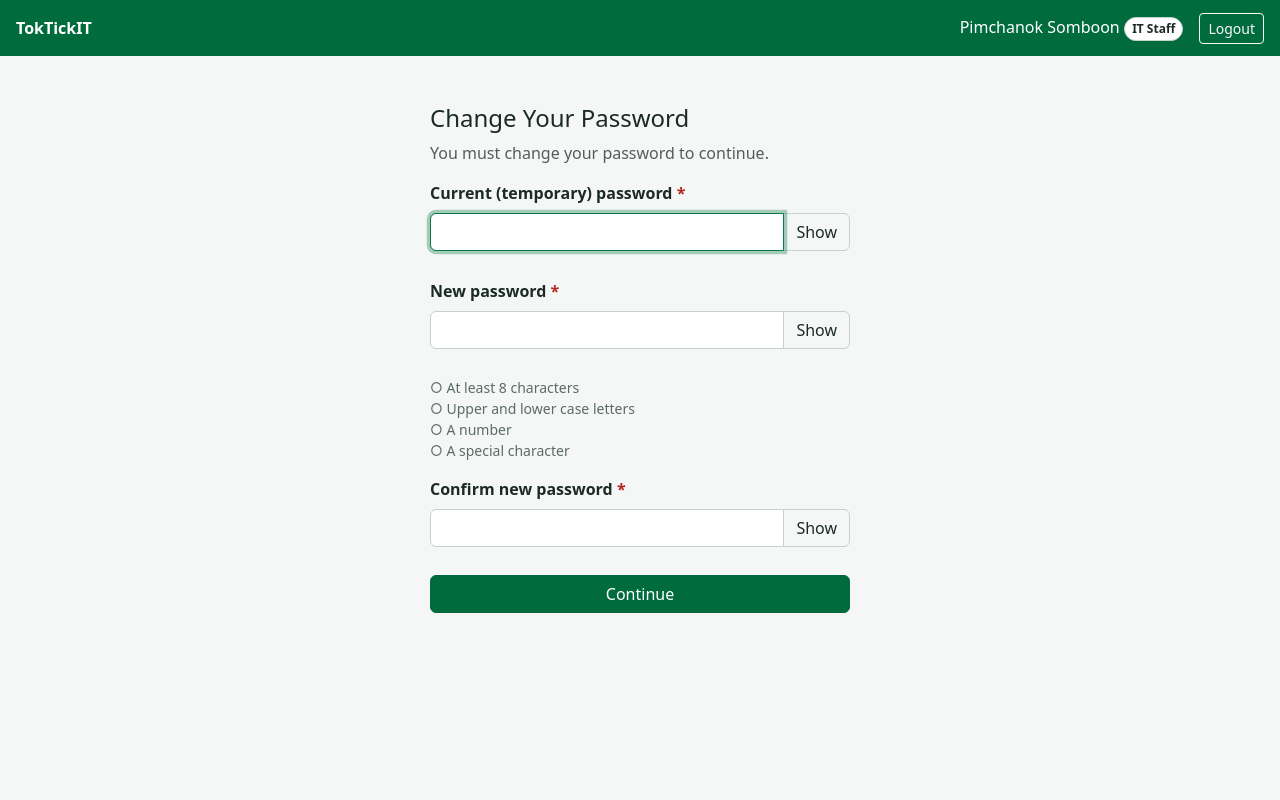
Test: Change Password screen › continues to a staff user's own landing route after the change
In the password field labelled "Current (temporary) password *": (607, 232) [430, 213, 784, 251], type "ChangeMe!23"
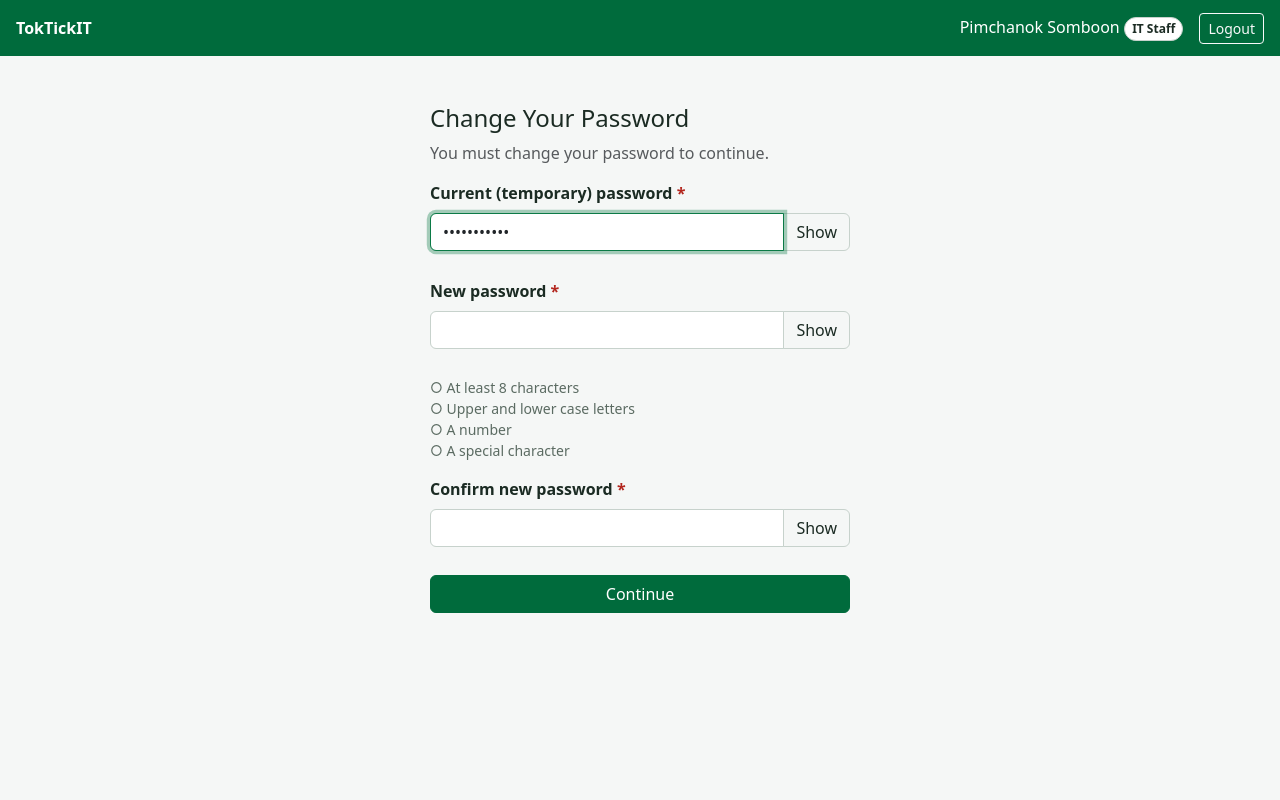
In the password field labelled "New password *": (607, 330) [430, 311, 784, 349], type "Fresh!Pass456"
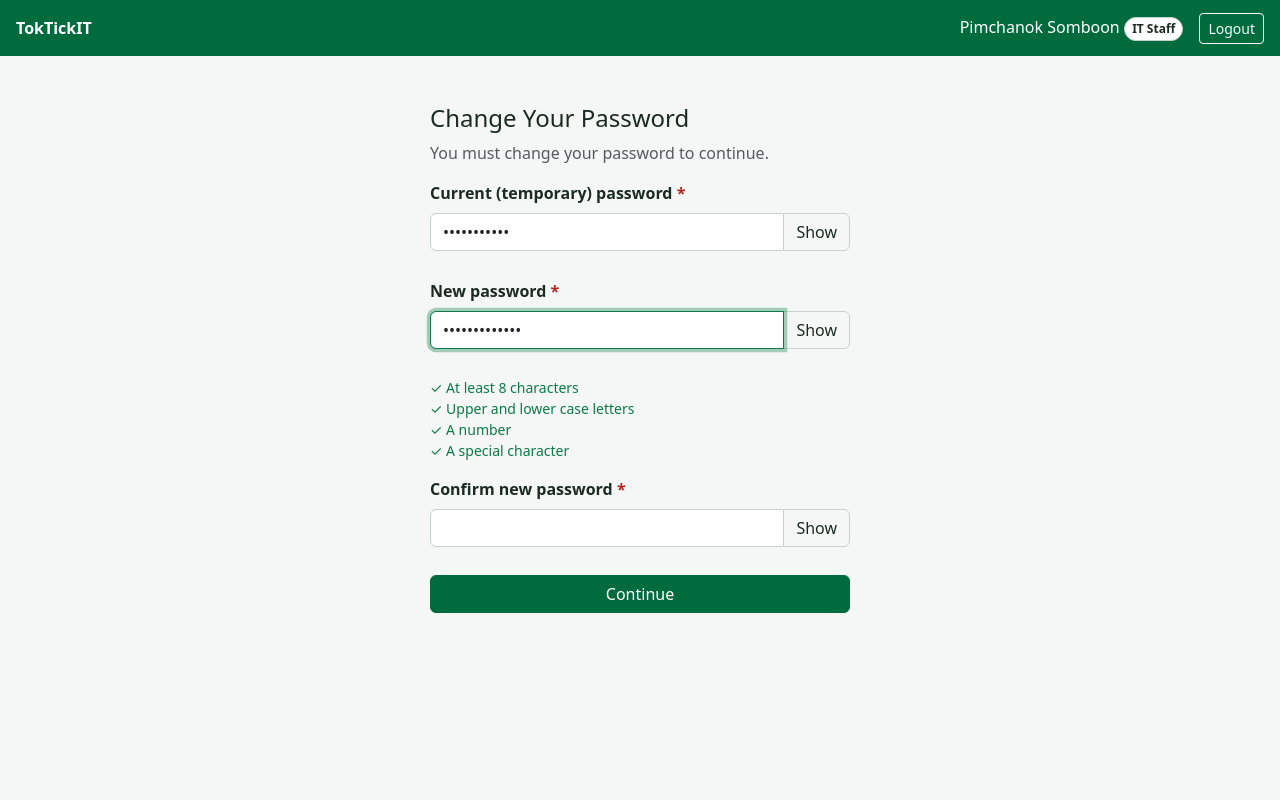
In the password field labelled "Confirm new password *": (607, 528) [430, 509, 784, 547], type "Fresh!Pass456"
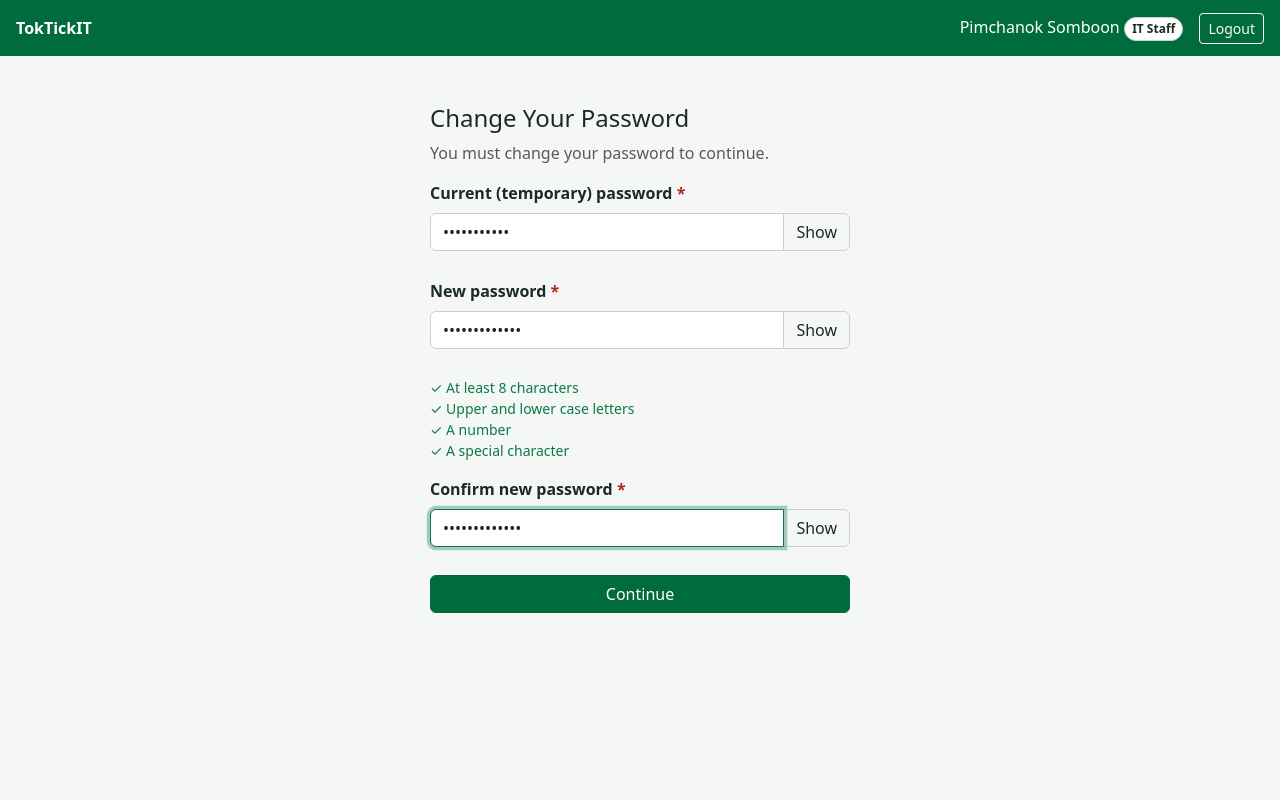
Click the button "Continue": (640, 594) [430, 575, 850, 613]
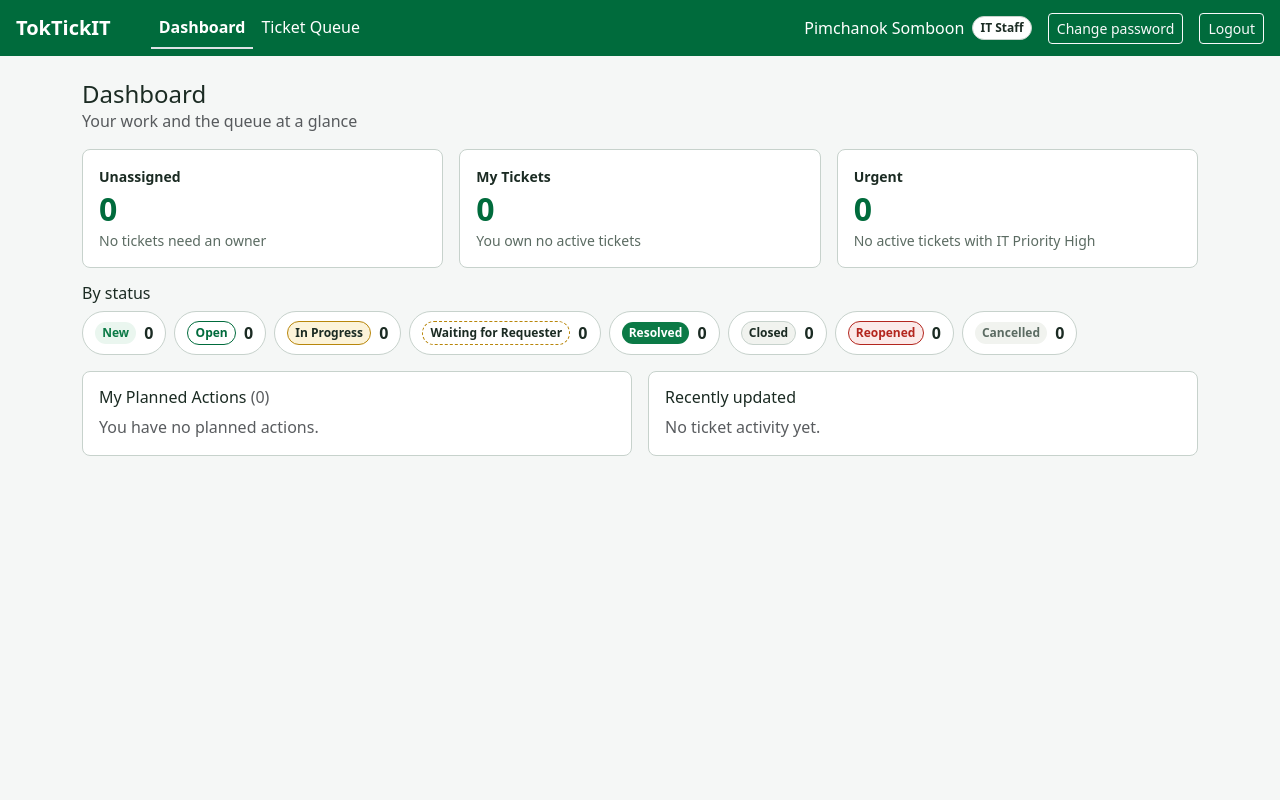
expect the text "Your work and the queue at a glance" is shown: met, box [82, 109, 357, 133]
